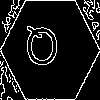Q: (25, 25, 59, 74)
